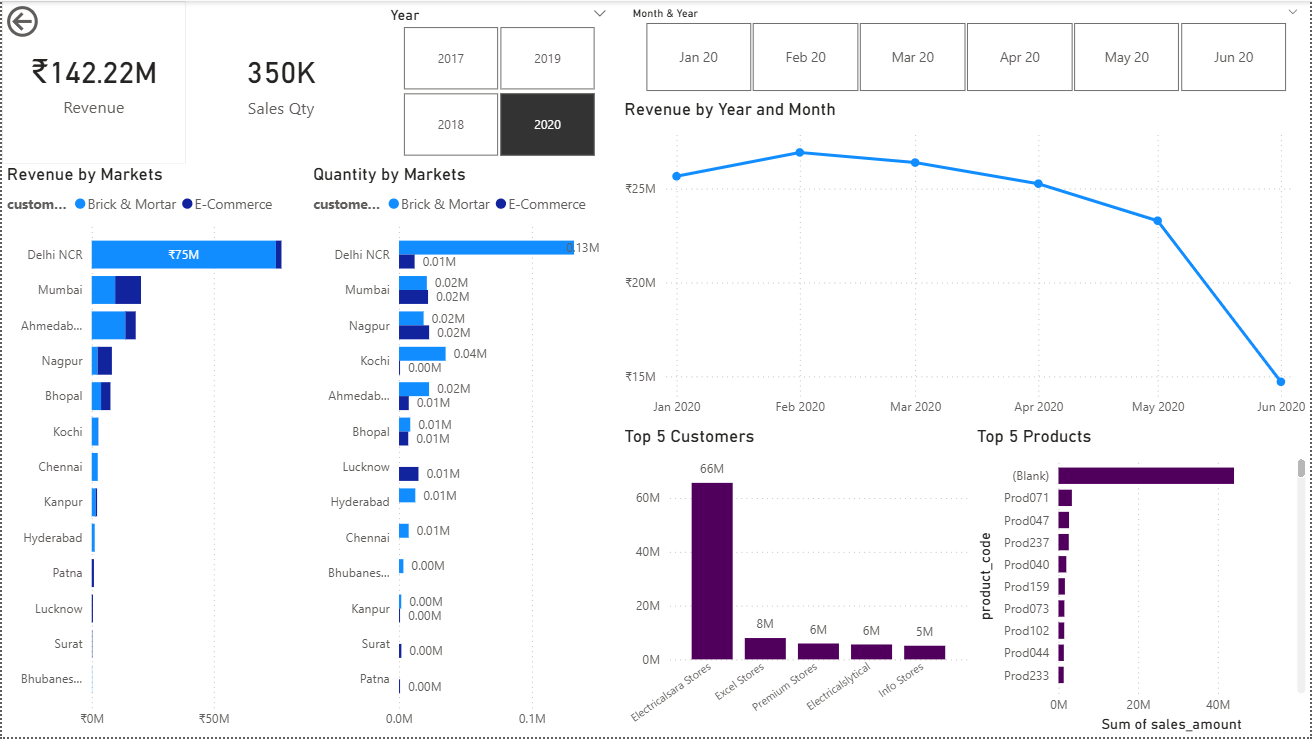

The page's visual inventory and layout, read from the dashboard file:
{"tool":"powerbi","page":{"name":"Key Insights","canvas":[1280,720],"ordinal":0},"visuals":[{"type":"card","fields":{"Values":["BaseMeasures.Revenue"]},"box":[0,0,180,158.6],"z":0},{"type":"card","fields":{"Values":["BaseMeasures.Sales Qty"]},"box":[179.8,0,187.1,159],"z":1000},{"type":"barChart","title":"Revenue by Markets","fields":{"Y":["BaseMeasures.Revenue"],"Category":["sales markets.markets_name"],"Series":["sales customers.customer_type"]},"box":[0,158.6,300,561.4],"z":2000},{"type":"clusteredBarChart","title":"Quantity by Markets","fields":{"Y":["Sum(sales transactions.sales_qty)"],"Category":["sales markets.markets_name"],"Series":["sales customers.customer_type"]},"box":[300,158.6,304.3,561.4],"z":3000},{"type":"slicer","fields":{"Values":["sales date.cy_date.Variation.Date Hierarchy.Year"]},"box":[367.1,0,237.1,158.6],"z":4000},{"type":"slicer","fields":{"Values":["sales date.cy_date"]},"box":[604.1,0,676.2,95.4],"z":5000},{"type":"clusteredColumnChart","title":"Top 5 Customers","fields":{"Category":["sales customers.custmer_name"],"Y":["Sum(sales transactions.sales_amount)"]},"box":[604.1,415.8,346.1,304.5],"z":6000},{"type":"barChart","title":"Top 5 Products","fields":{"Y":["Sum(sales transactions.sales_amount)"],"Category":["sales products.product_code"]},"box":[948.9,415.8,331.4,304.5],"z":7000},{"type":"lineChart","fields":{"Category":["sales date.cy_date.Variation.Date Hierarchy.Year","sales date.cy_date.Variation.Date Hierarchy.Month"],"Y":["BaseMeasures.Revenue"]},"box":[604.1,95.4,676.2,320.4],"z":8000},{"type":"actionButton","box":[0,0,100,40],"z":9000}]}

Visuals, with their boxes in screenshot pixels (x1, y1, x2, y2), scaled from the page's 1280x720 canvas onto the 1312x740 screenshot:
card - BaseMeasures.Revenue: crop(0, 0, 184, 163)
card - BaseMeasures.Sales Qty: crop(184, 0, 376, 163)
"Revenue by Markets" barChart: crop(0, 163, 308, 739)
"Quantity by Markets" clusteredBarChart: crop(308, 163, 619, 739)
slicer - sales date.cy_date.Variation.Date Hierarchy.Year: crop(376, 0, 619, 163)
slicer - sales date.cy_date: crop(619, 0, 1311, 98)
"Top 5 Customers" clusteredColumnChart: crop(619, 427, 974, 739)
"Top 5 Products" barChart: crop(973, 427, 1311, 739)
lineChart - sales date.cy_date.Variation.Date Hierarchy.Year x sales date.cy_date.Variation.Date Hierarchy.Month: crop(619, 98, 1311, 427)
actionButton: crop(0, 0, 102, 41)
